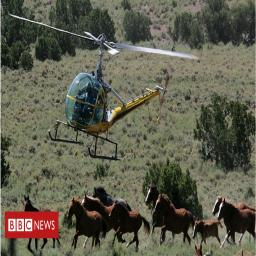helicopter: (46, 13, 198, 168)
